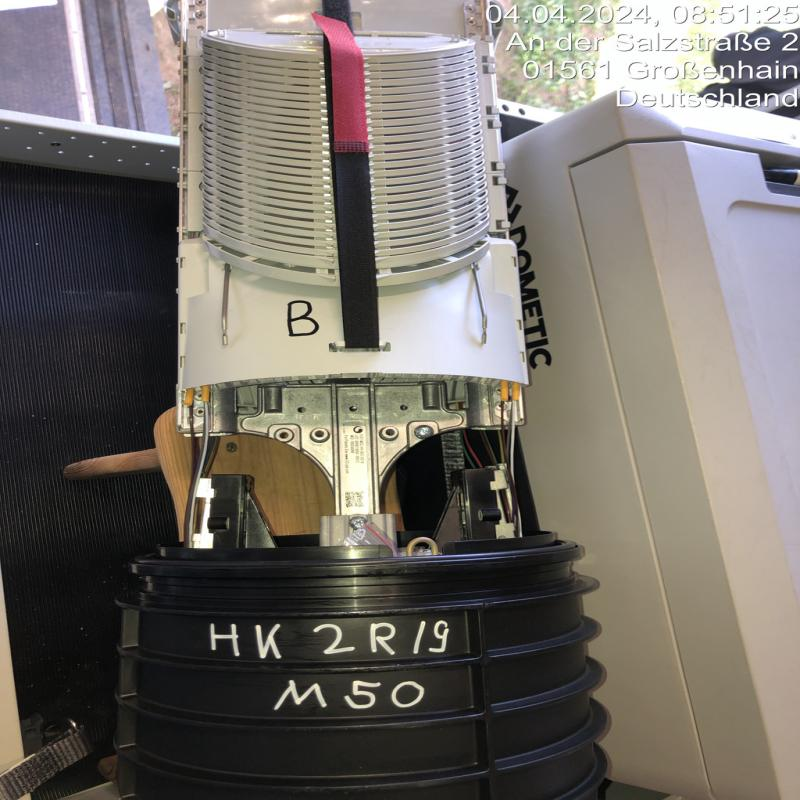NT-Muffen: (136, 15, 612, 800)
